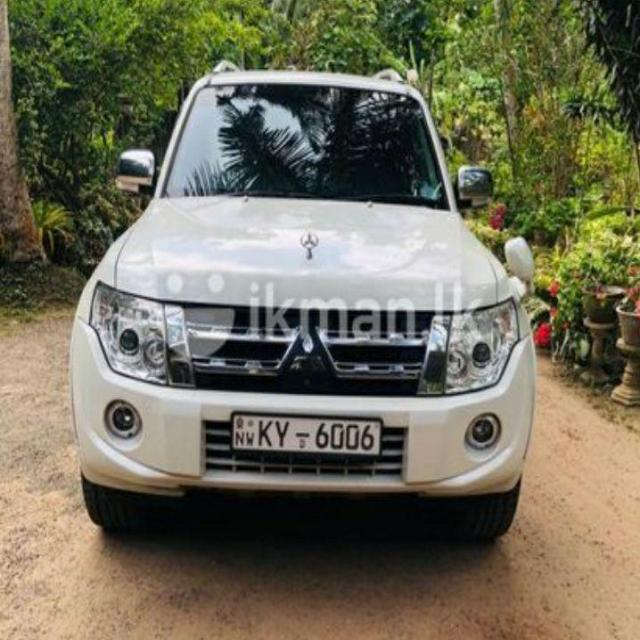license-plate: (230, 411, 379, 461)
